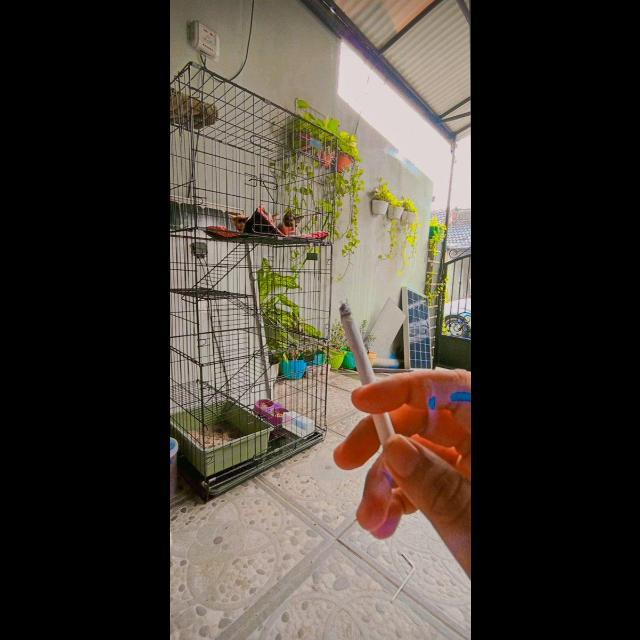rokok: (327, 294, 397, 438)
